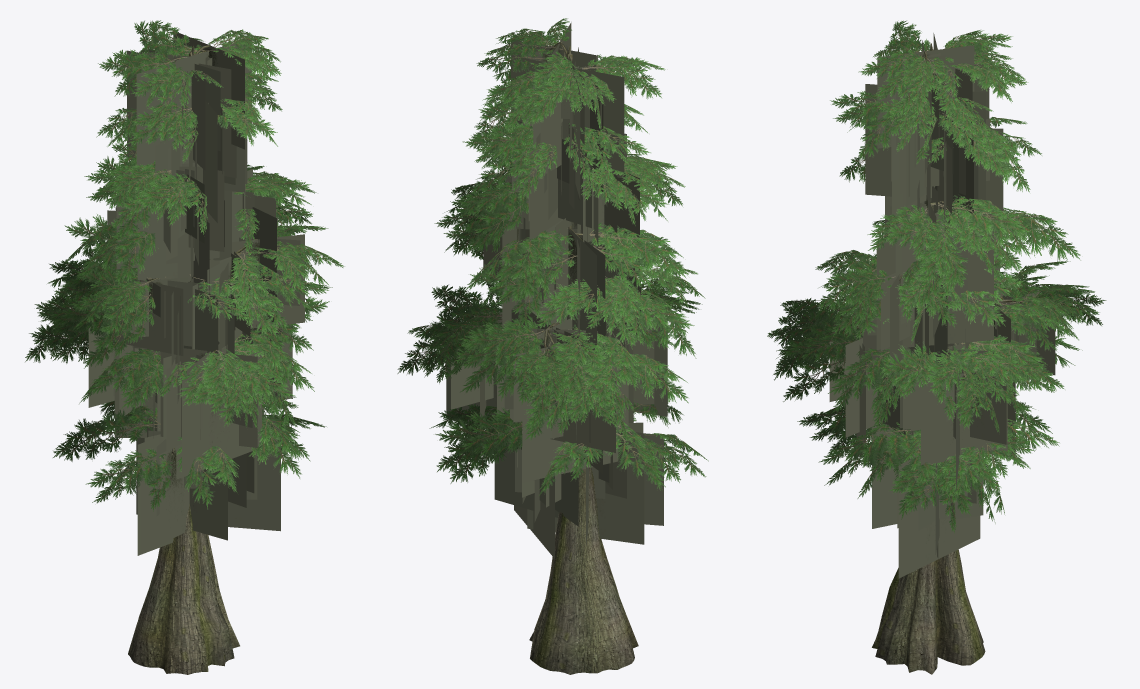
Rendered from bald-cypress.glb.
3 renders of one model, left to right at view 1: azimuth 30°, elevation 25°; view 2: azimuth 150°, elevation 25°; view 3: azimuth 270°, elevation 25°, orthographic.
Parts seen in each view (by area): view 1: cypres_chauve_cypreschauve_needles_D_cypreschauve_needles_D_, cypres_chauve_CypresChauve_mousse_D_CypresChauve_mousse_D_0, cypres_chauve_cypreschauve_bark_D_cypreschauve_bark_D_0; view 2: cypres_chauve_cypreschauve_needles_D_cypreschauve_needles_D_, cypres_chauve_CypresChauve_mousse_D_CypresChauve_mousse_D_0, cypres_chauve_cypreschauve_bark_D_cypreschauve_bark_D_0; view 3: cypres_chauve_cypreschauve_needles_D_cypreschauve_needles_D_, cypres_chauve_CypresChauve_mousse_D_CypresChauve_mousse_D_0, cypres_chauve_cypreschauve_bark_D_cypreschauve_bark_D_0.
Part boxes in pixels (bbox=[...]): cypres_chauve_cypreschauve_needles_D_cypreschauve_needles_D_: bbox=[25, 20, 344, 511]; cypres_chauve_CypresChauve_mousse_D_CypresChauve_mousse_D_0: bbox=[88, 31, 304, 555]; cypres_chauve_cypreschauve_bark_D_cypreschauve_bark_D_0: bbox=[128, 44, 257, 674]; cypres_chauve_cypreschauve_needles_D_cypreschauve_needles_D_: bbox=[397, 18, 708, 495]; cypres_chauve_CypresChauve_mousse_D_CypresChauve_mousse_D_0: bbox=[446, 22, 667, 558]; cypres_chauve_cypreschauve_bark_D_cypreschauve_bark_D_0: bbox=[484, 42, 638, 674]; cypres_chauve_cypreschauve_needles_D_cypreschauve_needles_D_: bbox=[767, 20, 1106, 532]; cypres_chauve_CypresChauve_mousse_D_CypresChauve_mousse_D_0: bbox=[829, 33, 1055, 578]; cypres_chauve_cypreschauve_bark_D_cypreschauve_bark_D_0: bbox=[861, 43, 1022, 674].
Bounding box in the file's own units: 11.77 × 24.07 × 13.05.
Materials: 3 (3 with a texture image).
